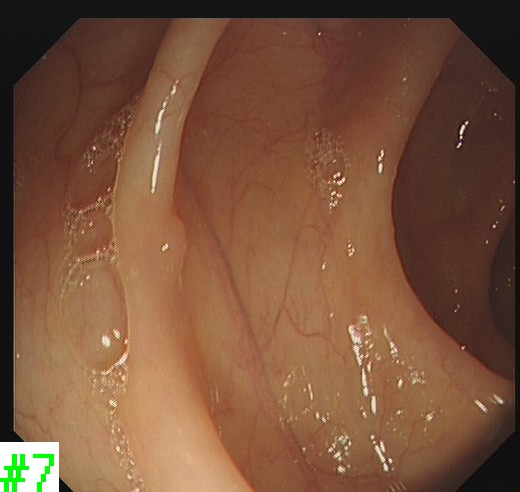others: (162, 212, 190, 281)
